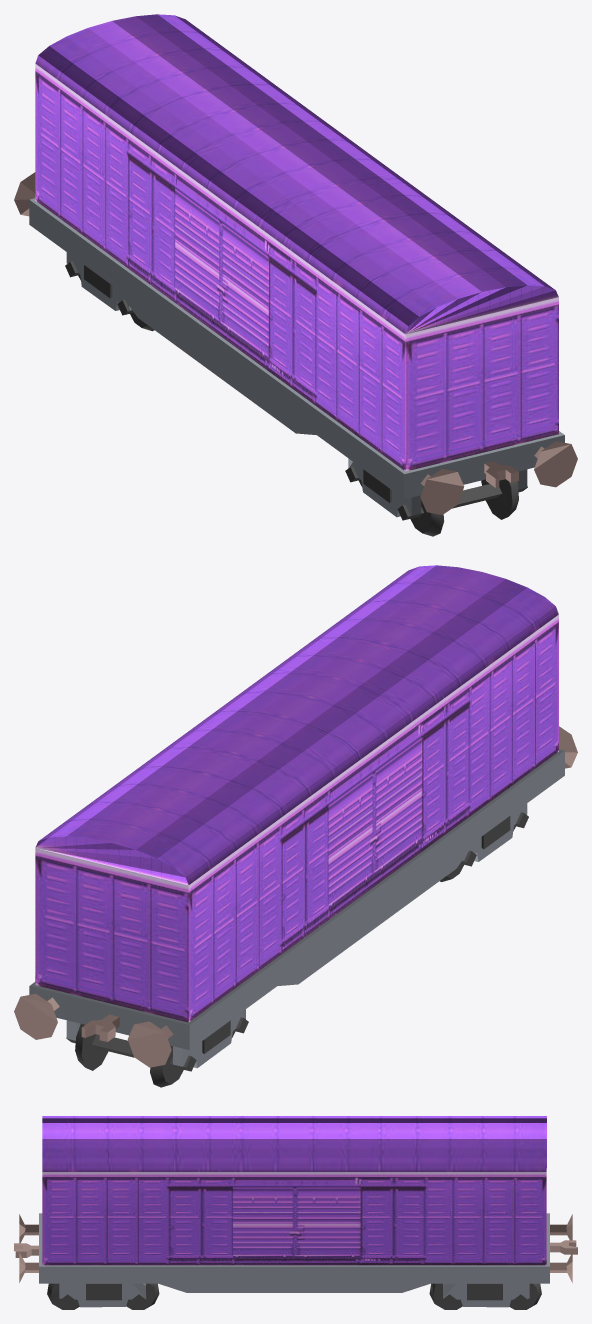
File: boxcarviolet.dae
The picture shows the model from 3 angles, top to bottom: view 1: azimuth 30°, elevation 25°; view 2: azimuth 150°, elevation 25°; view 3: azimuth 270°, elevation 25°; orthographic projection. The views are drawn at different scales.
Visible parts, largest first — view 1: 9.0.242.0_Pts_Material_Surf, 9.0.242.0_Pts_Material__4__Surf, 9.0.242.0_Pts_Material__2__Surf, 9.0.242.0_Pts_Material__3__Surf; view 2: 9.0.242.0_Pts_Material_Surf, 9.0.242.0_Pts_Material__4__Surf, 9.0.242.0_Pts_Material__2__Surf, 9.0.242.0_Pts_Material__3__Surf; view 3: 9.0.242.0_Pts_Material_Surf, 9.0.242.0_Pts_Material__4__Surf, 9.0.242.0_Pts_Material__3__Surf, 9.0.242.0_Pts_Material__2__Surf.
Boxes of the visible parts, <box> form: 9.0.242.0_Pts_Material_Surf: <box>35,14,558,471</box>; 9.0.242.0_Pts_Material__4__Surf: <box>29,198,564,517</box>; 9.0.242.0_Pts_Material__2__Surf: <box>14,172,577,514</box>; 9.0.242.0_Pts_Material__3__Surf: <box>65,261,527,536</box>; 9.0.242.0_Pts_Material_Surf: <box>35,565,558,1022</box>; 9.0.242.0_Pts_Material__4__Surf: <box>29,749,564,1068</box>; 9.0.242.0_Pts_Material__2__Surf: <box>14,726,577,1067</box>; 9.0.242.0_Pts_Material__3__Surf: <box>66,812,528,1087</box>; 9.0.242.0_Pts_Material_Surf: <box>42,1116,546,1265</box>; 9.0.242.0_Pts_Material__4__Surf: <box>39,1213,549,1307</box>; 9.0.242.0_Pts_Material__3__Surf: <box>47,1283,541,1309</box>; 9.0.242.0_Pts_Material__2__Surf: <box>14,1214,577,1282</box>.
Bounding box in the file's own units: 3.21 × 4.72 × 14.32.
